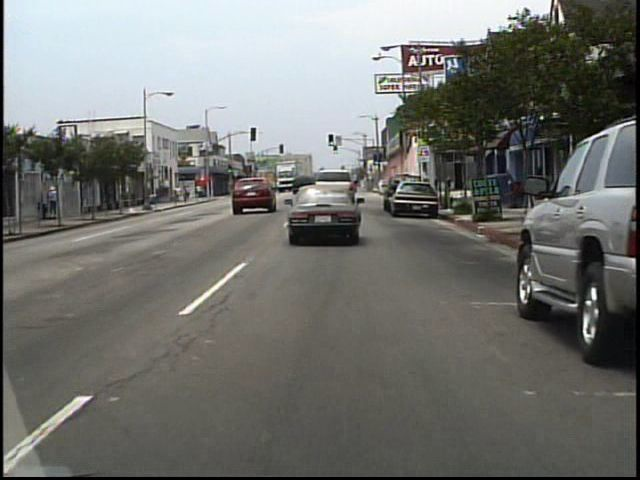person: (50, 183, 61, 219), (175, 184, 183, 203), (184, 184, 189, 203)
